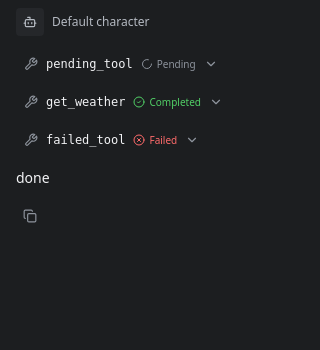
Test: MessageBubble tool execution › renders compact pending, completed, and failed tool states
The width and height of the screenshot is (320, 350).
Expected: the text "Pending" is shown, [141,56,196,72]
Expected: the text "Completed" is shown, [134,94,201,110]
Click the text "get_weather".
click(86, 102)  # box [46,94,126,110]
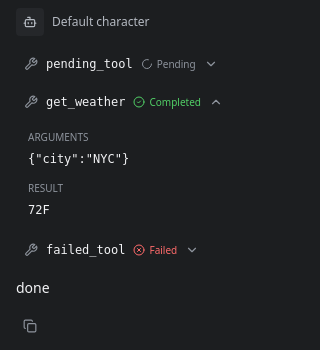
Expected: the text "{\"city\":\"NYC\"}" is shown, [28,152,129,166]
Expected: the text "72F" is shown, [28,203,50,217]
